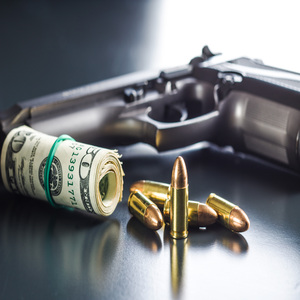bullet: (123, 152, 267, 279)
